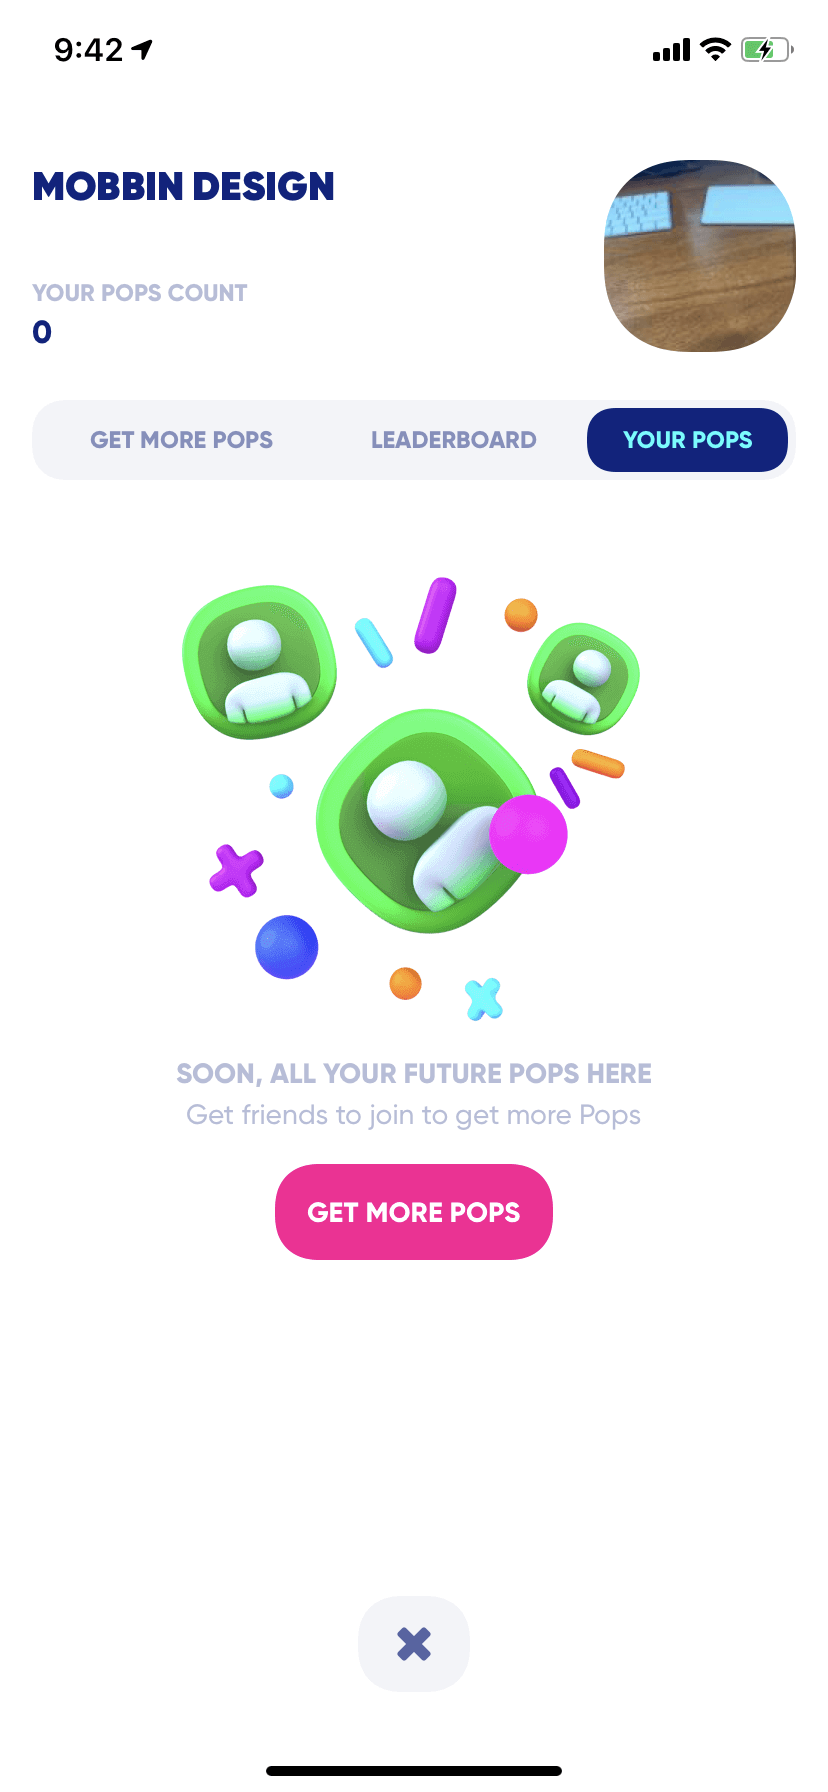Buttons: (272, 1154, 556, 1271), (347, 1589, 489, 1699)
